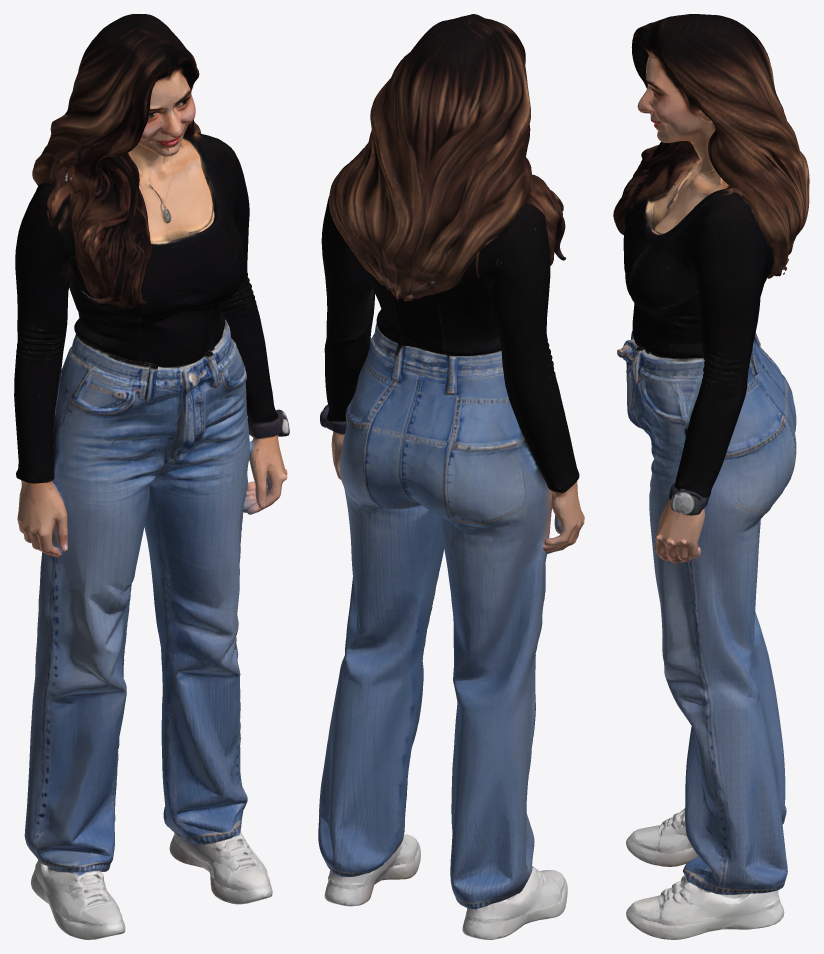
The model's file is anushri-character.glb.
3 renders of one model, left to right at view 1: azimuth 30°, elevation 25°; view 2: azimuth 150°, elevation 25°; view 3: azimuth 270°, elevation 25°, orthographic.
Parts seen in each view (by area): view 1: world; view 2: world; view 3: world.
Part boxes in pixels (box(x1,y1,x2,y2)): world: box(14, 14, 289, 939); world: box(318, 14, 584, 939); world: box(613, 14, 809, 939).
Size of the model in its own units: 0.5002 by 1.62 by 0.3303.
1 material, 1 textured.
